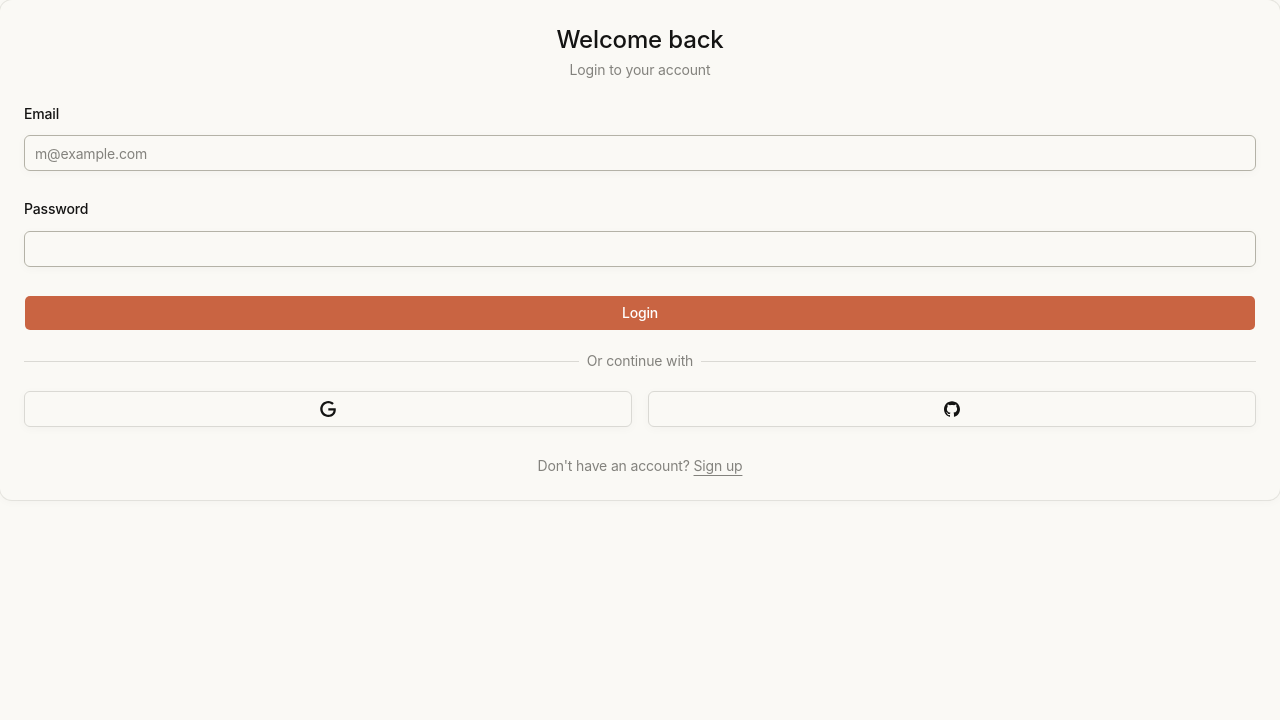
it: LoginForm › error handling › should show fallback error when an exception occurs
// When the user fills in credentials and clicks Login
In the field labelled "Email": (640, 153) [24,135,1256,171], type "test@example.com"
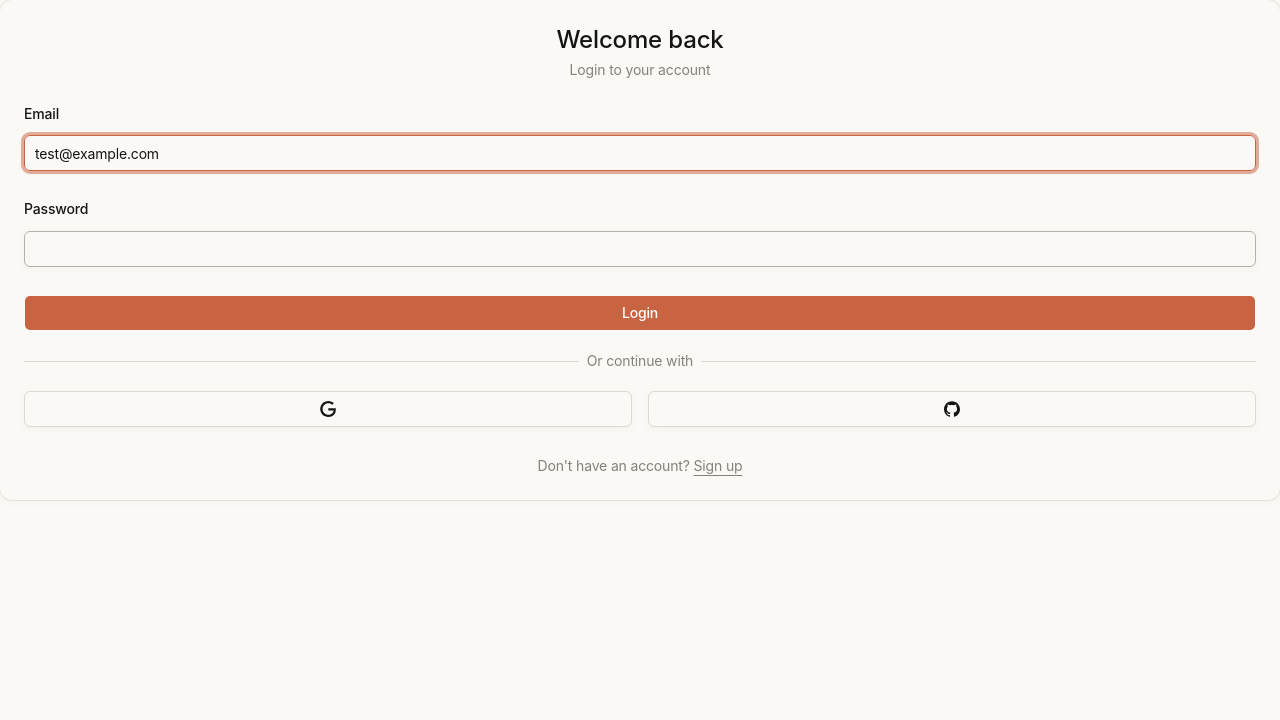
In the password field labelled "Password": (640, 248) [24,230,1256,266], type "password123"
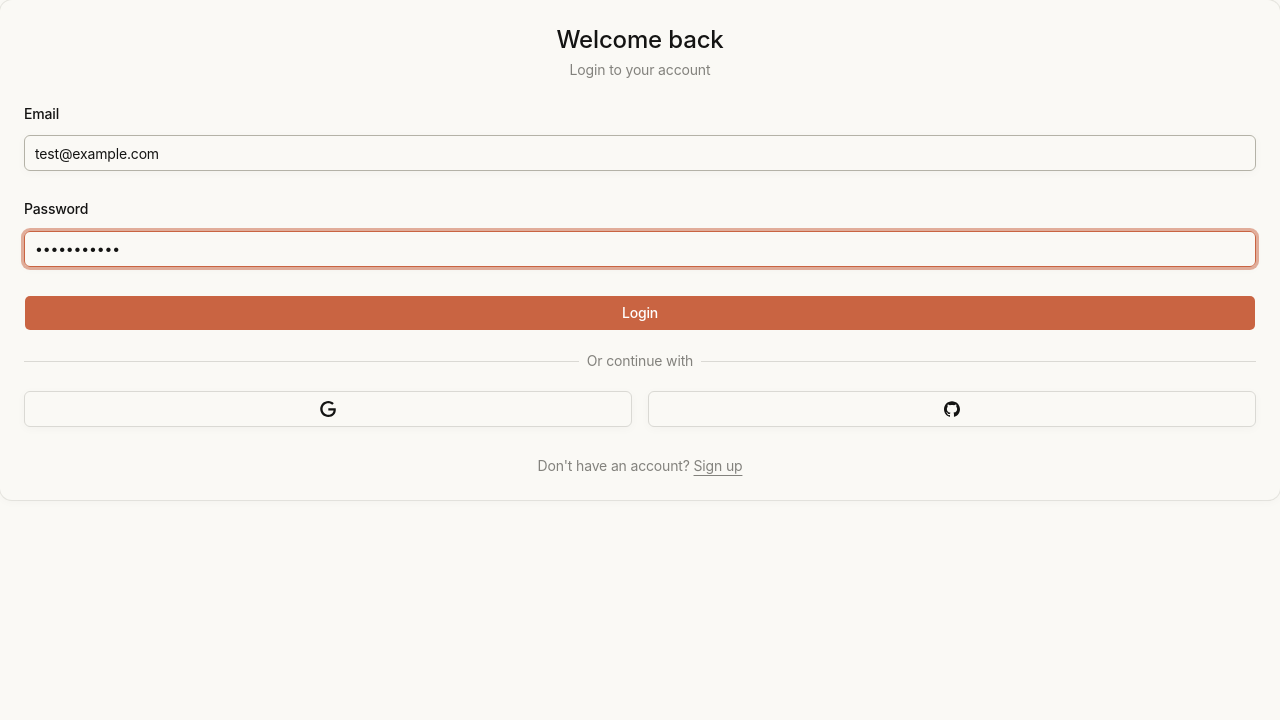
Click the button "Login": (640, 312) [24,294,1256,330]
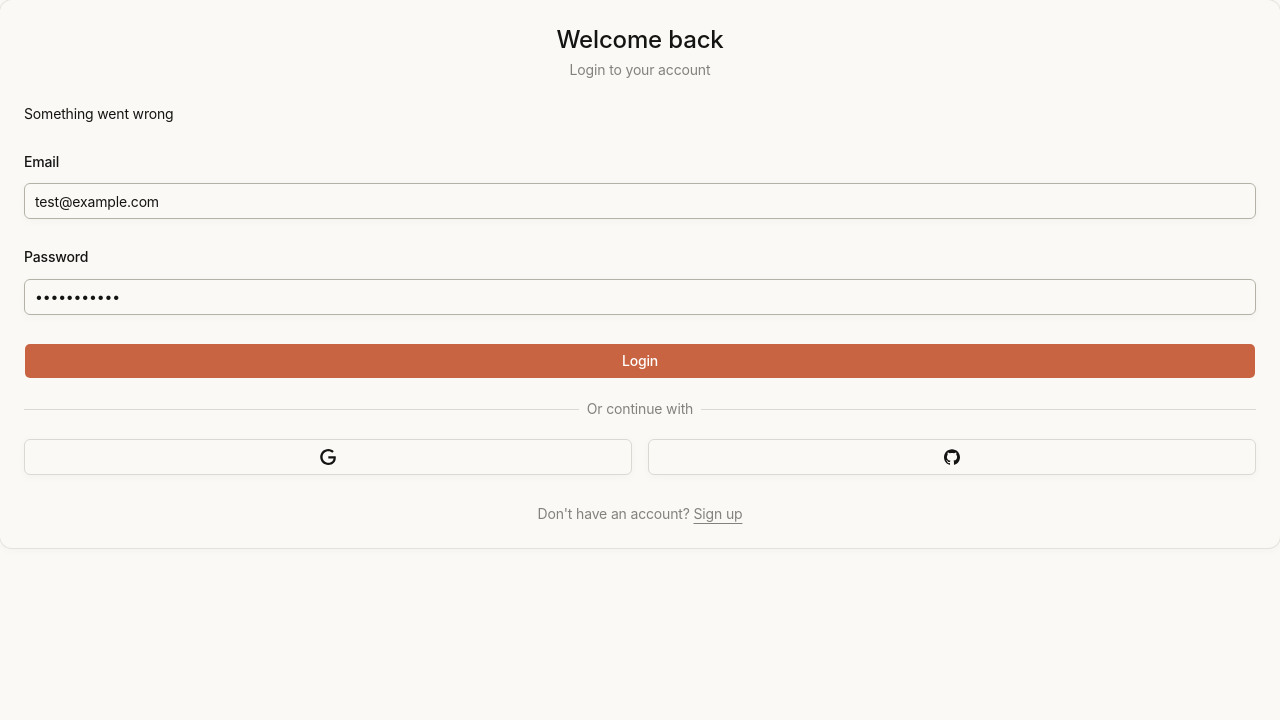
expect the message reads "Something went wrong": met, box [24,105,174,122]
